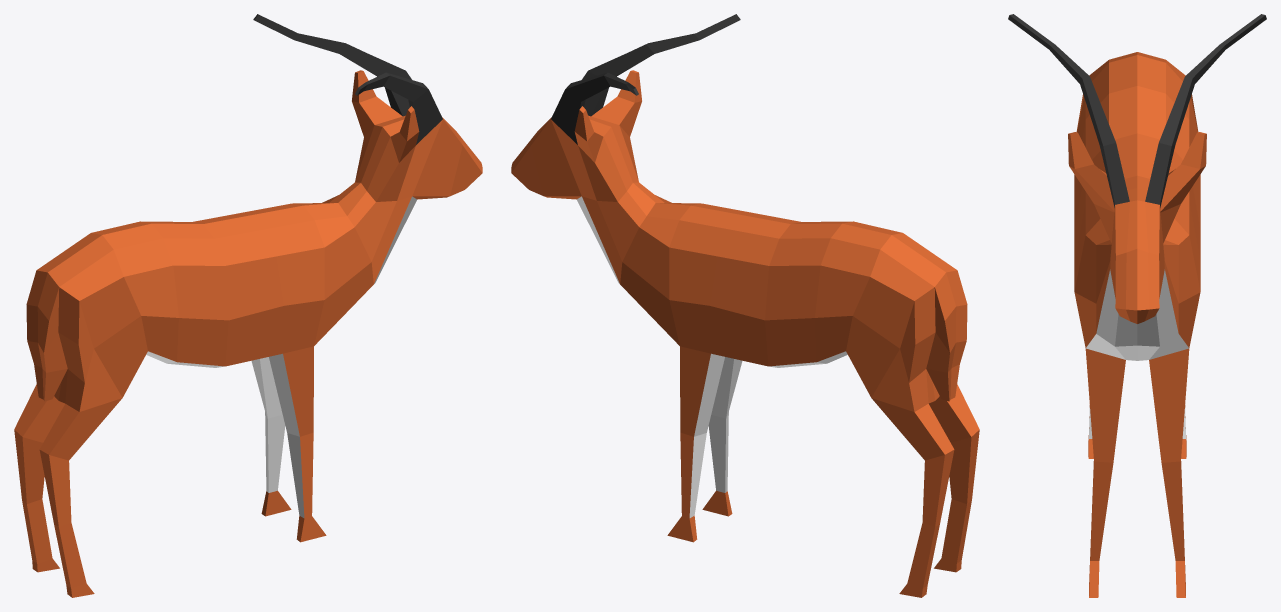
The model's file is gazelle.fbx.
3 renders of one model, left to right at view 1: azimuth 30°, elevation 25°; view 2: azimuth 150°, elevation 25°; view 3: azimuth 270°, elevation 25°, orthographic. The views are drawn at different scales.
Visible parts, largest first — view 1: Gazelle; view 2: Gazelle; view 3: Gazelle.
Part boxes in pixels (x1,y1,x2,y2): Gazelle: (14,14,482,597); Gazelle: (511,14,979,597); Gazelle: (1008,14,1266,597).
Bounding box in the file's own units: 125 × 125 × 50.
